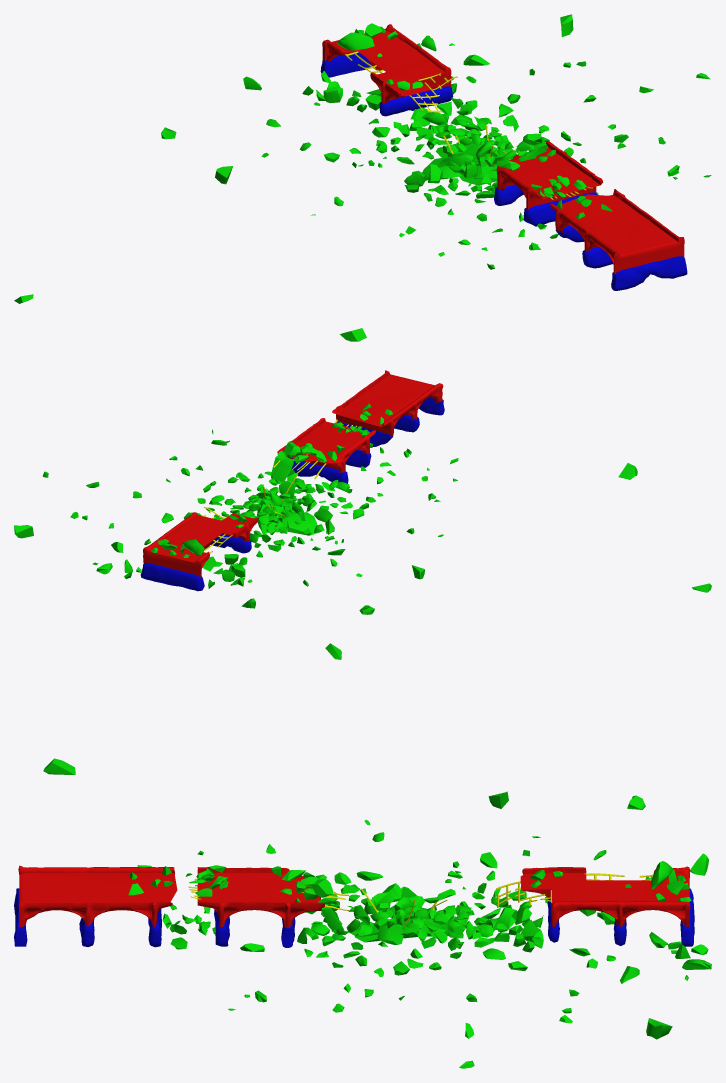
File: bridge_low.fbx
3 renders of one model, top to bottom at view 1: azimuth 30°, elevation 25°; view 2: azimuth 150°, elevation 25°; view 3: azimuth 270°, elevation 25°, orthographic. The views are drawn at different scales.
Visible parts, largest first — view 1: bridge_low; view 2: bridge_low; view 3: bridge_low.
Boxes of the visible parts, x1,y1,x2,y2 form: bridge_low: (14,14,711,341); bridge_low: (14,370,711,614); bridge_low: (14,643,711,1068).
Size of the model in its own units: 18169 by 1423 by 12795.
